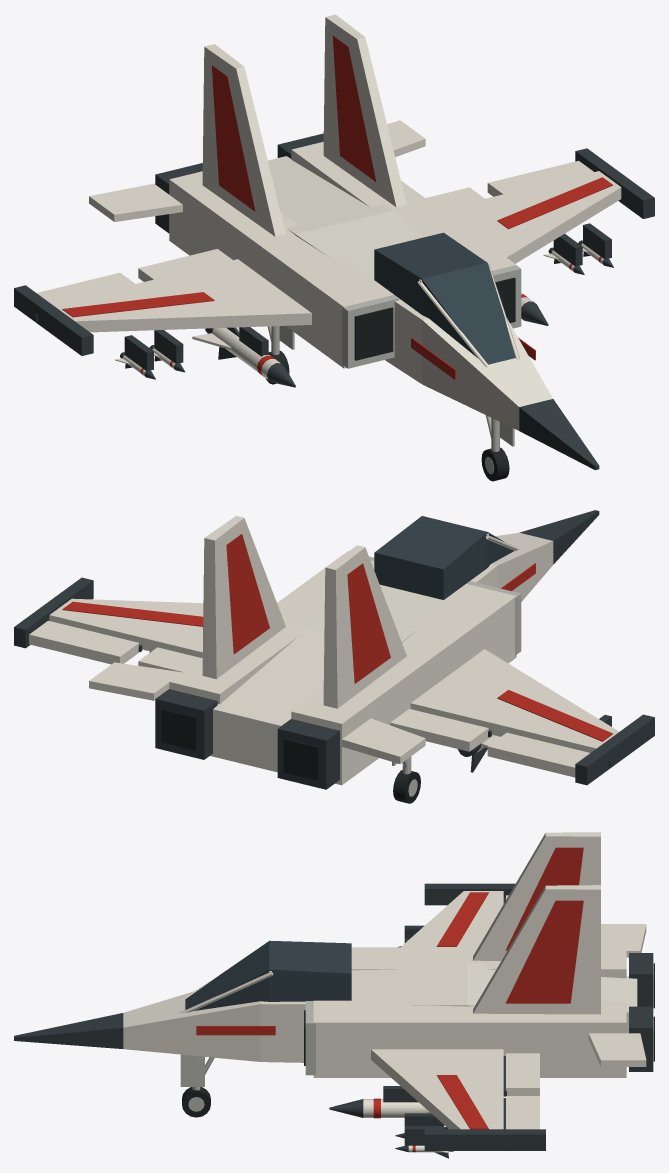
3 views of the same model, one above another, from view 1: azimuth 30°, elevation 25°; view 2: azimuth 150°, elevation 25°; view 3: azimuth 270°, elevation 25° (orthographic). The views are drawn at different scales.
Parts seen in each view (by area): view 1: jet-b-fleet-armor, jet-b-fleet-machine, jet-b-fleet-glass, jet-b-fleet-red, jet-b-fleet-rubber, elevator-left-fleet-armor, jet-b-fleet-edge, store-left-large-painted, aileron-right-painted, flap-left-painted, aileron-left-painted, elevator-right-fleet-armor (+2 smaller); view 2: jet-b-fleet-armor, jet-b-fleet-machine, jet-b-fleet-red, jet-b-fleet-glass, aileron-right-painted, aileron-left-painted, jet-b-fleet-rubber, flap-left-painted, elevator-left-fleet-armor, elevator-right-fleet-armor, flap-right-painted, gear-wheel-left-0-0-painted (+2 smaller); view 3: jet-b-fleet-armor, jet-b-fleet-machine, jet-b-fleet-red, jet-b-fleet-glass, elevator-right-fleet-armor, flap-right-painted, store-right-large-painted, aileron-right-painted, elevator-left-fleet-armor, landing-gear-nose-fleet-edge, jet-b-fleet-edge, gear-wheel-nose-0-0-painted.
Boxes of the visible parts, x1,y1,x2,y2 form: jet-b-fleet-armor: [52, 14, 621, 430]; jet-b-fleet-machine: [14, 133, 654, 470]; jet-b-fleet-glass: [374, 232, 515, 364]; jet-b-fleet-red: [62, 36, 612, 379]; jet-b-fleet-rubber: [354, 277, 515, 360]; elevator-left-fleet-armor: [89, 183, 182, 221]; jet-b-fleet-edge: [342, 265, 521, 368]; store-left-large-painted: [192, 327, 295, 387]; aileron-right-painted: [487, 160, 593, 196]; flap-left-painted: [138, 249, 232, 281]; aileron-left-painted: [34, 272, 135, 321]; elevator-right-fleet-armor: [387, 120, 425, 156]; jet-b-fleet-armor: [49, 515, 619, 785]; jet-b-fleet-machine: [14, 510, 654, 789]; jet-b-fleet-red: [62, 534, 612, 741]; jet-b-fleet-glass: [374, 516, 514, 599]; aileron-right-painted: [29, 620, 142, 664]; aileron-left-painted: [487, 732, 612, 777]; jet-b-fleet-rubber: [161, 709, 318, 780]; flap-left-painted: [390, 709, 491, 751]; elevator-left-fleet-armor: [342, 718, 425, 763]; elevator-right-fleet-armor: [89, 662, 181, 700]; flap-right-painted: [138, 647, 201, 672]; gear-wheel-left-0-0-painted: [393, 770, 420, 803]; jet-b-fleet-armor: [123, 832, 637, 1129]; jet-b-fleet-machine: [14, 883, 653, 1150]; jet-b-fleet-red: [196, 847, 583, 1129]; jet-b-fleet-glass: [185, 940, 351, 1010]; elevator-right-fleet-armor: [588, 1033, 646, 1066]; flap-right-painted: [503, 1053, 539, 1096]; store-right-large-painted: [329, 1098, 444, 1125]; aileron-right-painted: [503, 1096, 539, 1149]; elevator-left-fleet-armor: [601, 924, 646, 957]; landing-gear-nose-fleet-edge: [180, 1054, 214, 1090]; jet-b-fleet-edge: [305, 1001, 315, 1075]; gear-wheel-nose-0-0-painted: [182, 1087, 210, 1117].
Bounding box in the file's own units: 50.89 × 23.94 × 54.74.
